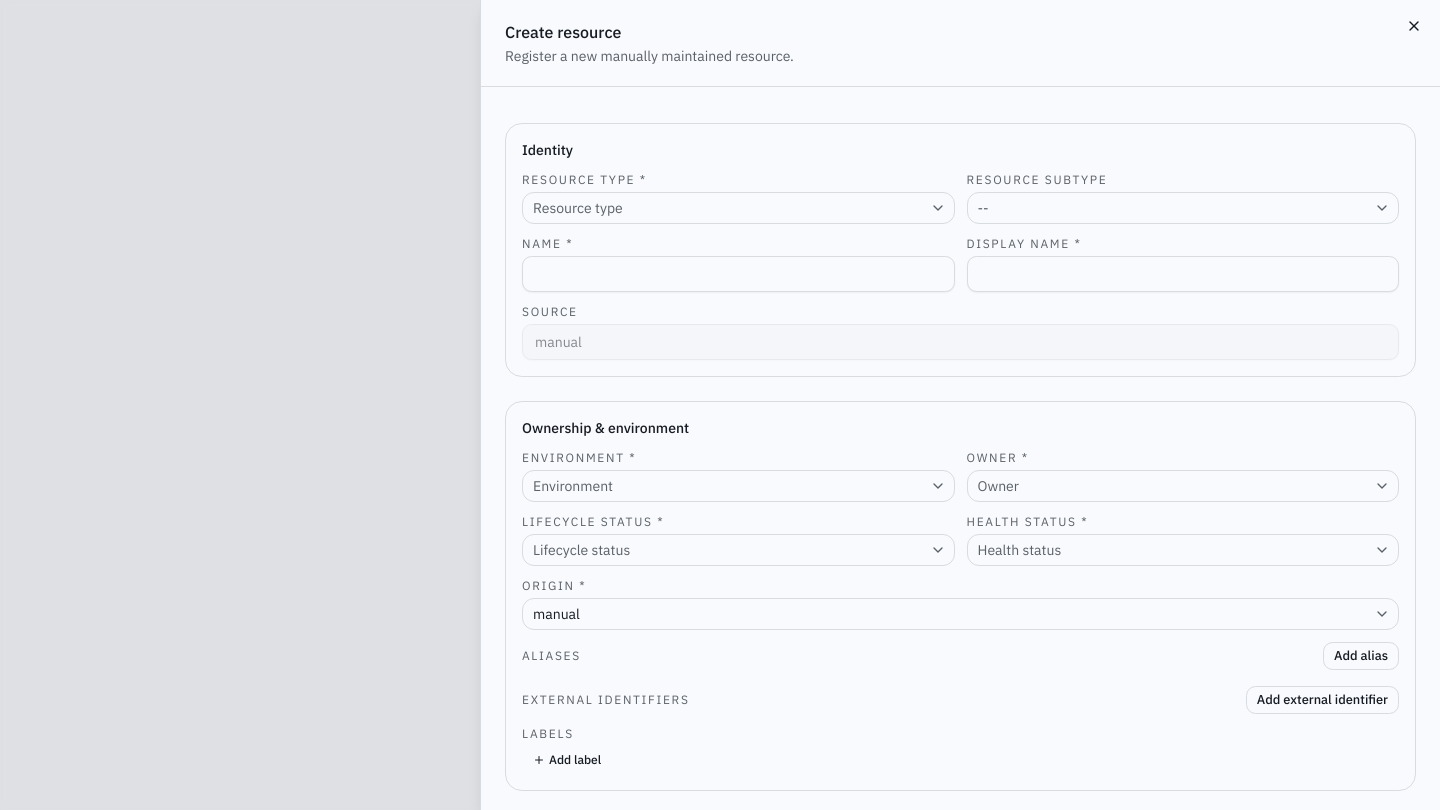
CreateResourceSheet › shows control plane profile fields and does not offer ambiguous ha subtype
Click the dropdown labelled "Resource type ▼".
click(578, 208)  # box [522,192,954,224]
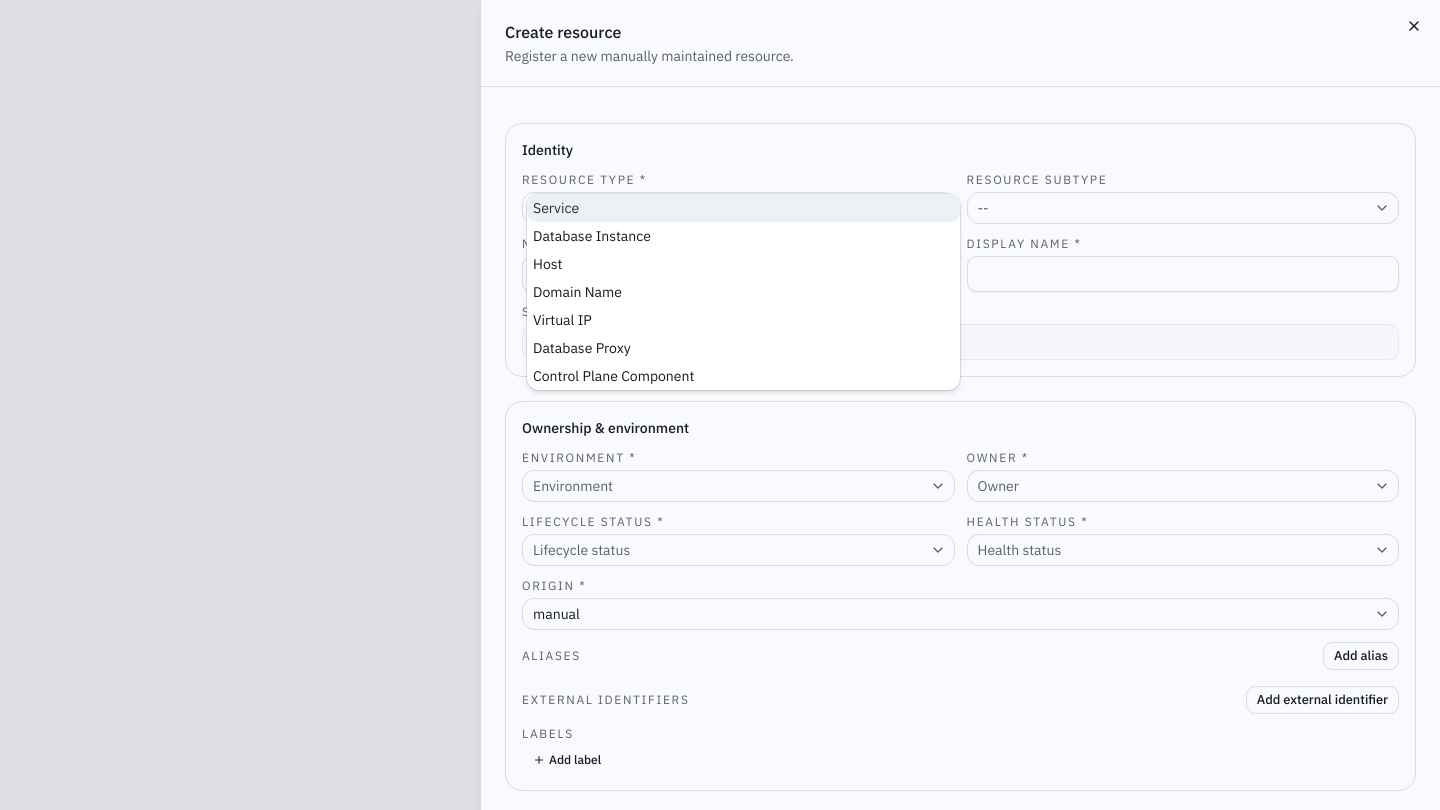
Click the option "Control Plane Component".
click(614, 376)  # box [533,367,694,385]
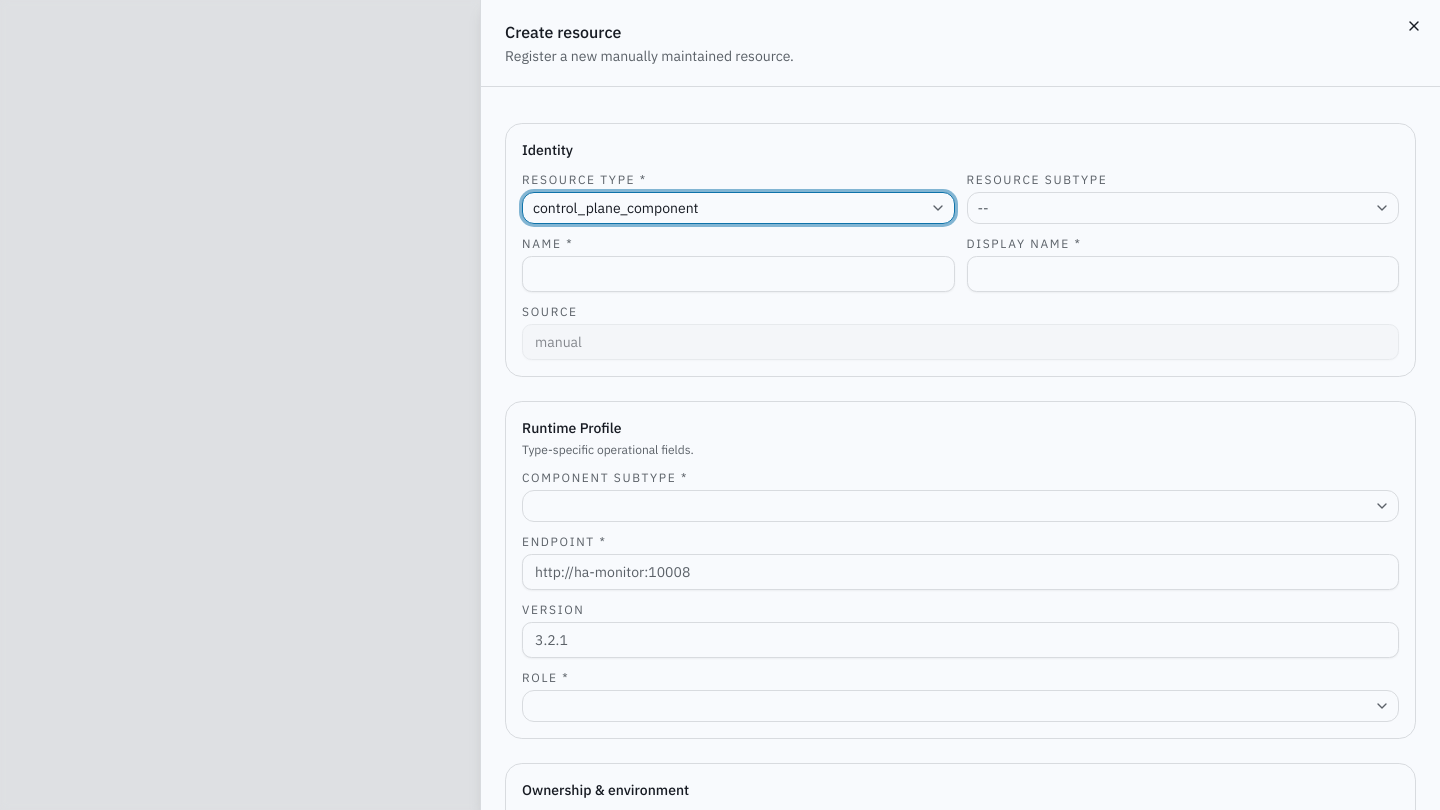
Now the dropdown named "Component subtype" is shown, box [522,490,1399,522]
Now the field labelled "Endpoint *" is shown, box [522,554,1399,590]
Now the dropdown named "Role *" is shown, box [522,690,1399,722]
